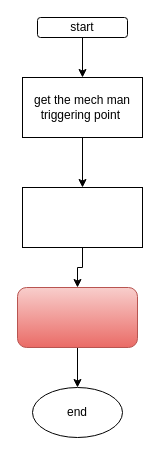
The diagram is 160 pixels wide and 455 high, and some of its shapes have lost their labels. Here are the shapes that lost their labels. From the top down, the box of each, then its label:
(22, 186, 142, 248): construct the mech man trigger object
(16, 286, 138, 348): call createSupplyTruck
